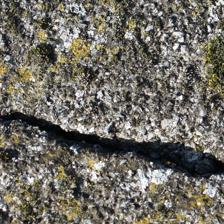Crack: (2, 51, 223, 137)
